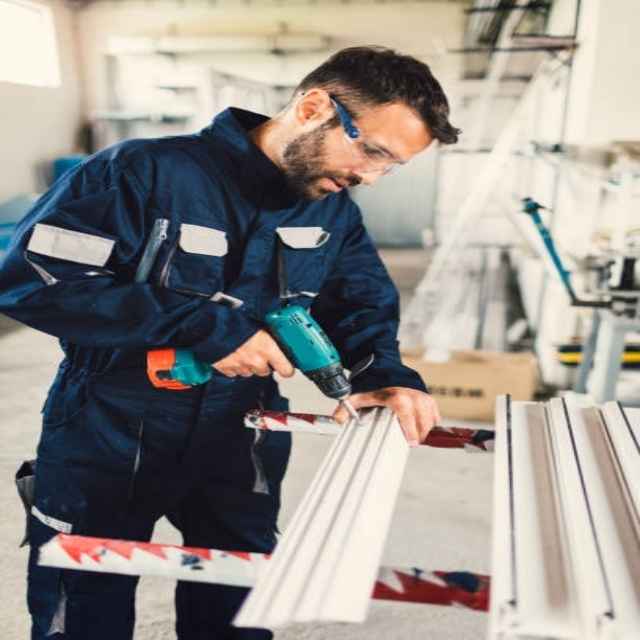Gafas: (315, 93, 408, 176)
Sin_guantes: (341, 385, 442, 446), (209, 327, 299, 382)
Sin_mascara: (311, 168, 362, 205)
